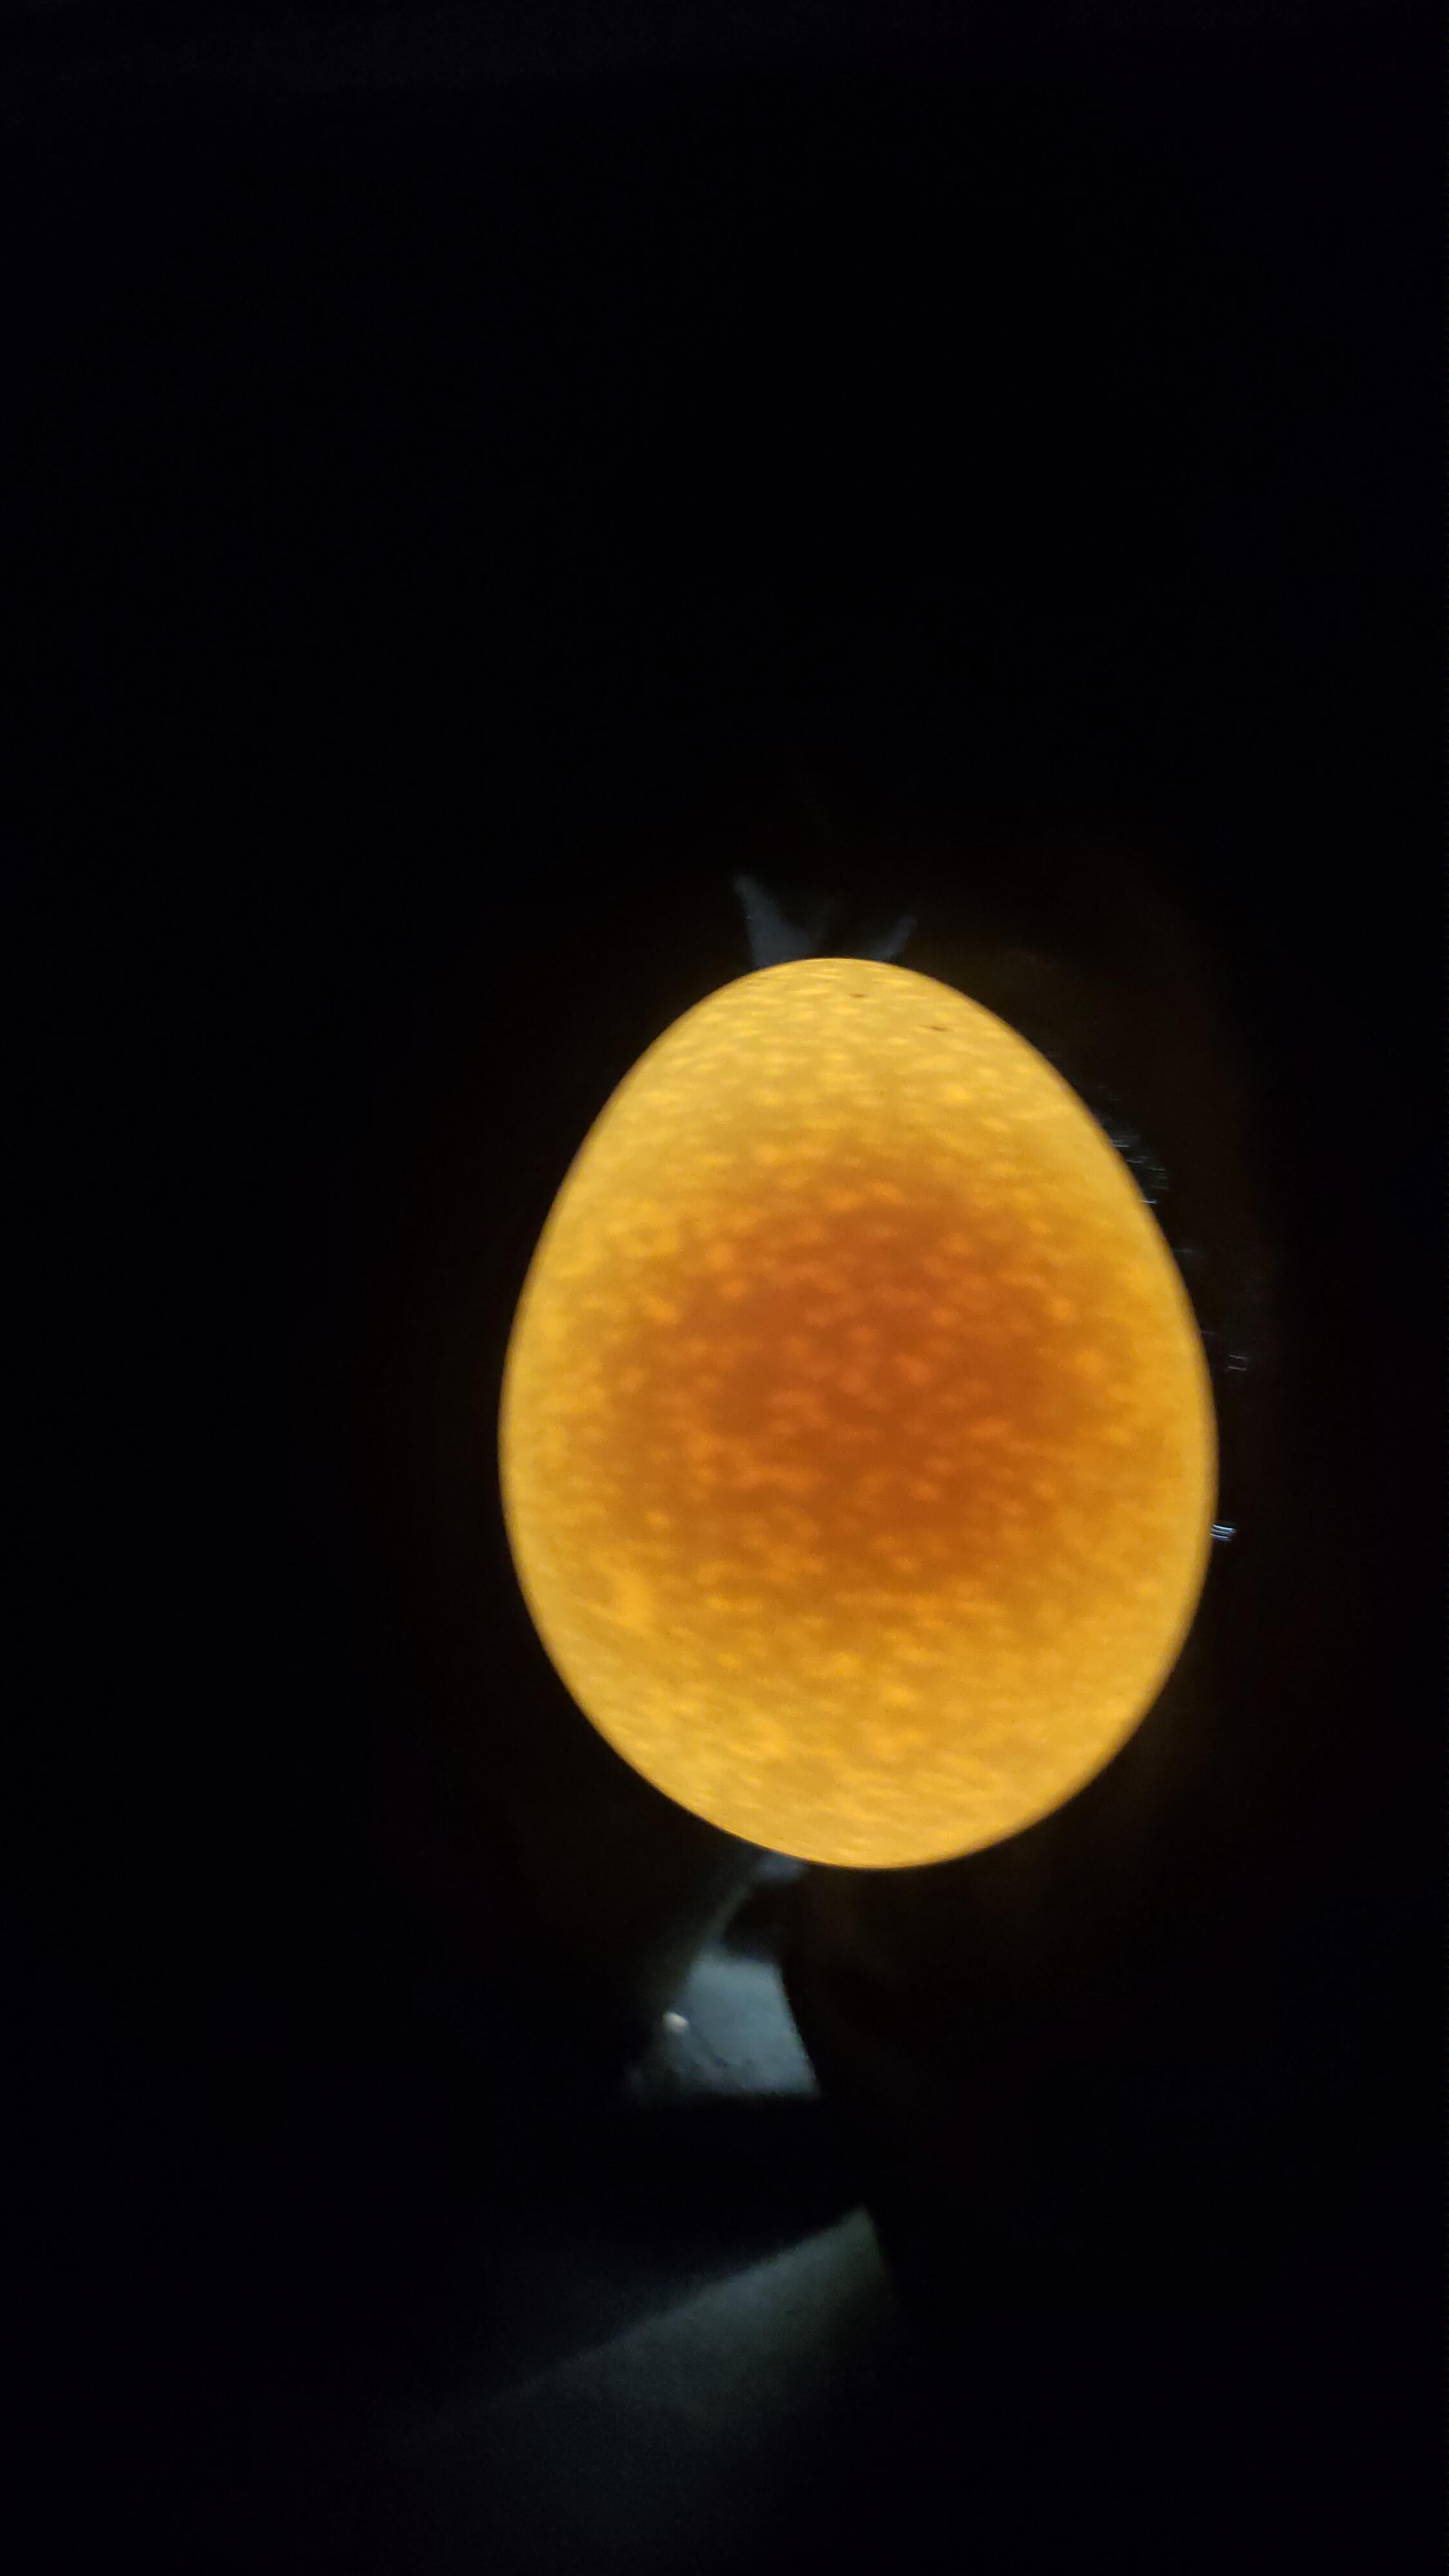A - Good: (464, 902, 1281, 1925)
